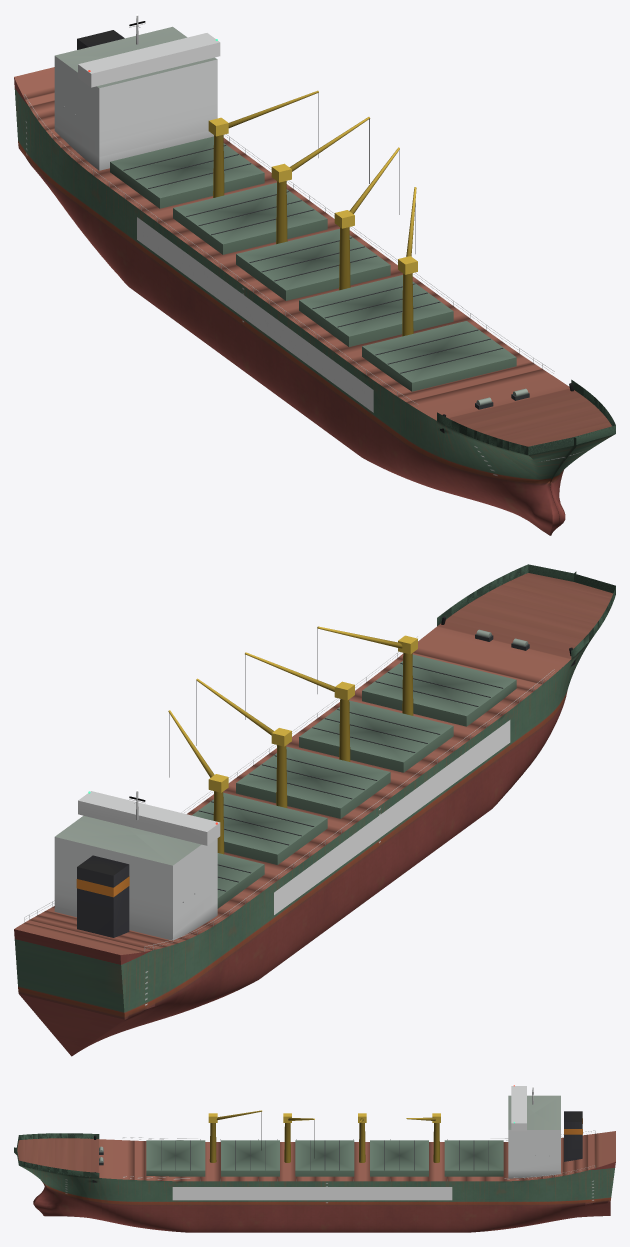
File: frachter.glb
3 views of the same model, one above another, from view 1: azimuth 30°, elevation 25°; view 2: azimuth 150°, elevation 25°; view 3: azimuth 270°, elevation 25° (orthographic). The views are drawn at different scales.
Parts seen in each view (by area): view 1: trim, rumpf, rund, name-1; view 2: trim, rumpf, rund, name-1; view 3: trim, rumpf, name1, rund.
Boxes of the visible parts, x1,y1,x2,y2 form: trim: (14,26,615,455); rumpf: (14,77,614,535); rund: (24,15,573,416); name-1: (137,217,373,412); trim: (14,564,615,954); rumpf: (14,635,594,1056); rund: (24,616,572,951); name-1: (274,720,510,914); trim: (14,1086,615,1182); rumpf: (14,1152,615,1232); name1: (172,1187,452,1200); rund: (94,1087,595,1180).
Bounding box in the file's own units: 34.14 × 46.03 × 194.
7 materials, 1 textured.
